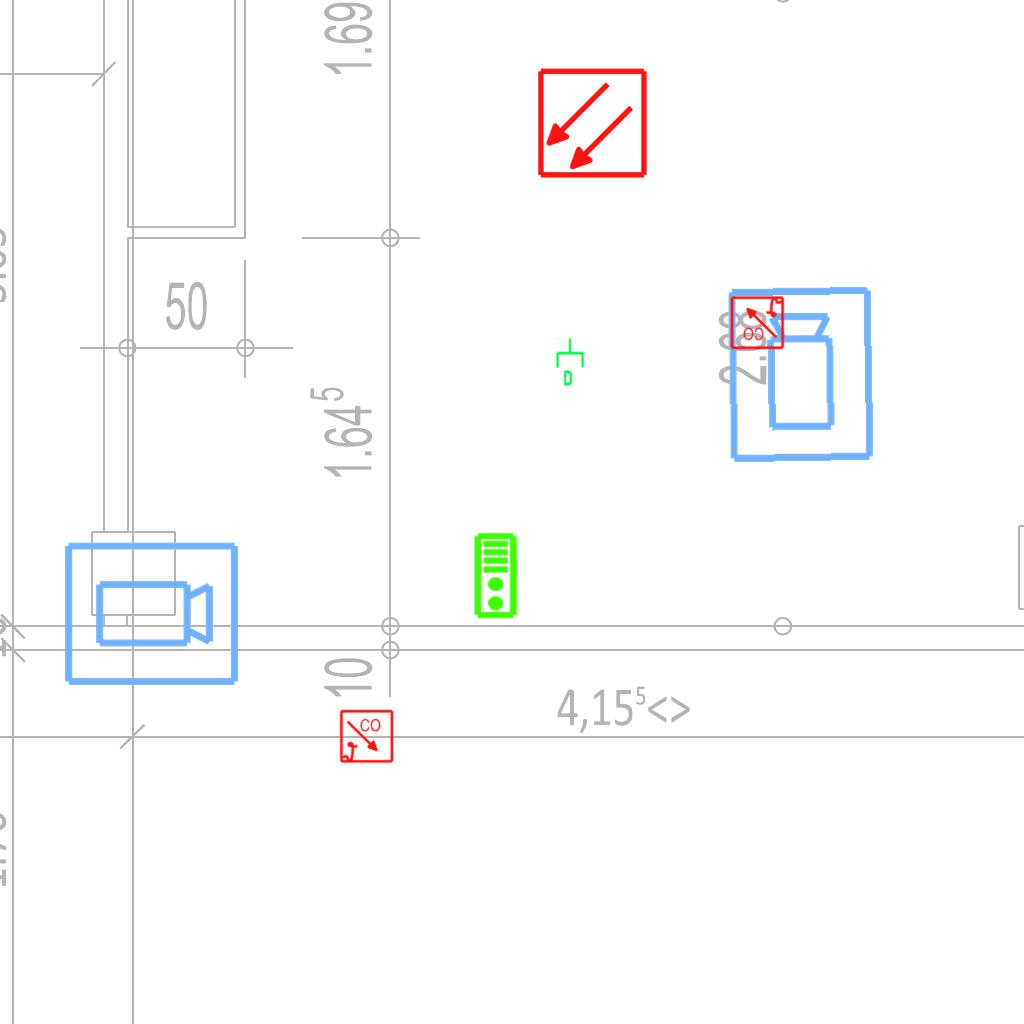Datenanschluss_einfach: (554, 337, 588, 387)
Gegensprechanlage_mit_Video: (473, 532, 520, 620)
KFO_Kamera_mit_Festobjektiv: (723, 282, 881, 468), (60, 538, 242, 692)
RMO_Rauchmelder_optischer: (536, 67, 649, 180)
ROA_Rauchmelder_optisch_mit_Signalgeber_(Sockelsirene): (339, 709, 395, 765), (729, 294, 785, 350)
